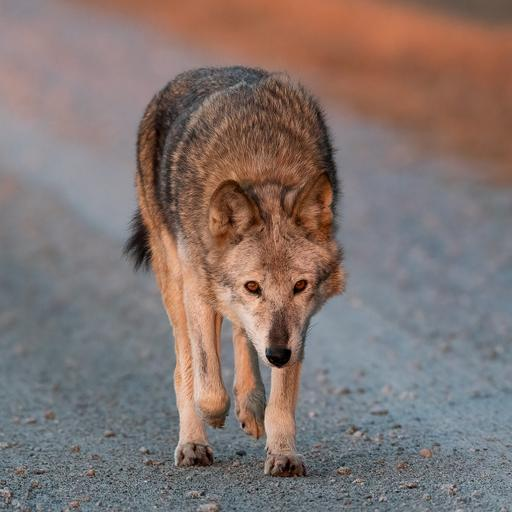Wolf: (110, 59, 356, 493)
